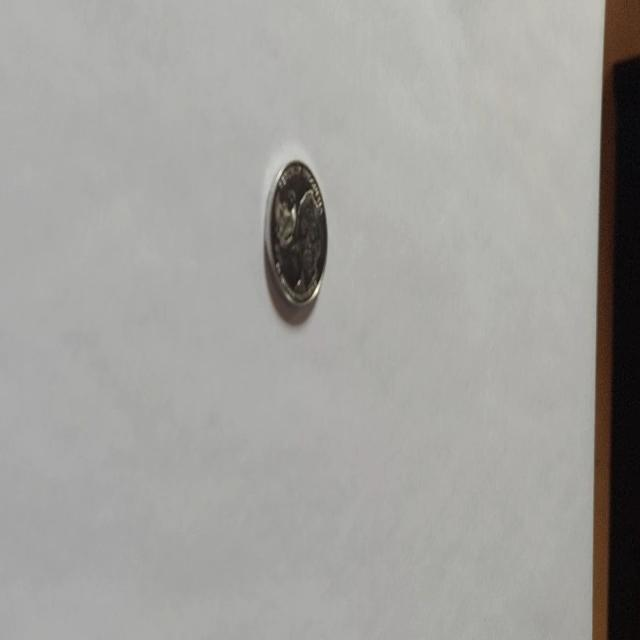dua ratus rupiah: (264, 157, 328, 310)
